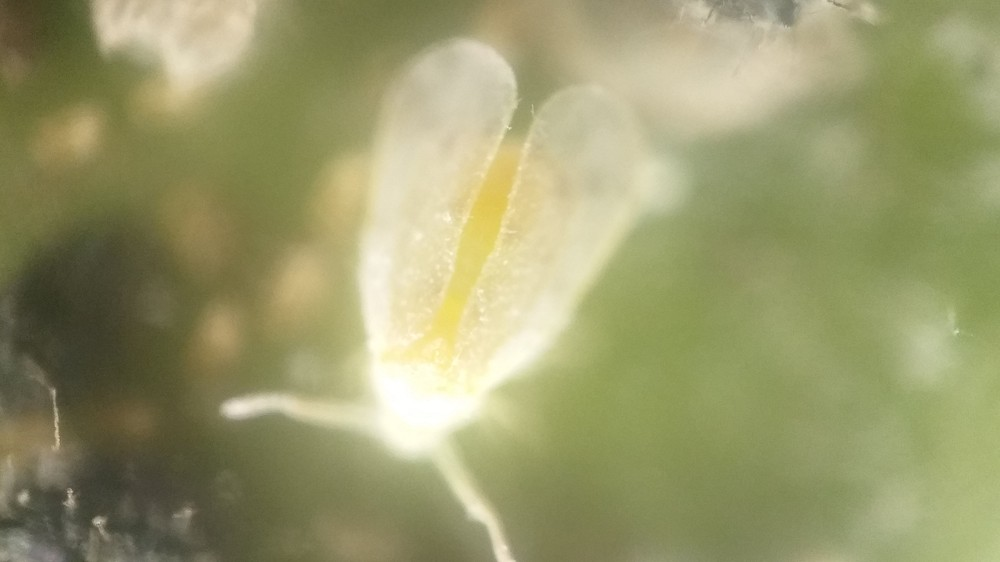Mosca Blanca: (220, 31, 685, 562)
